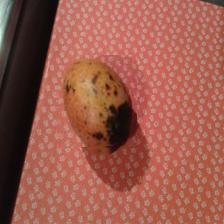Mango Rotten: (55, 55, 137, 148)
